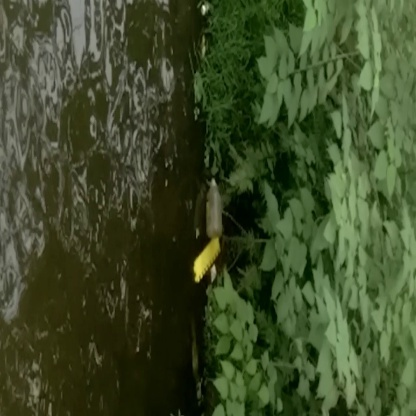bottle: (198, 175, 234, 232)
